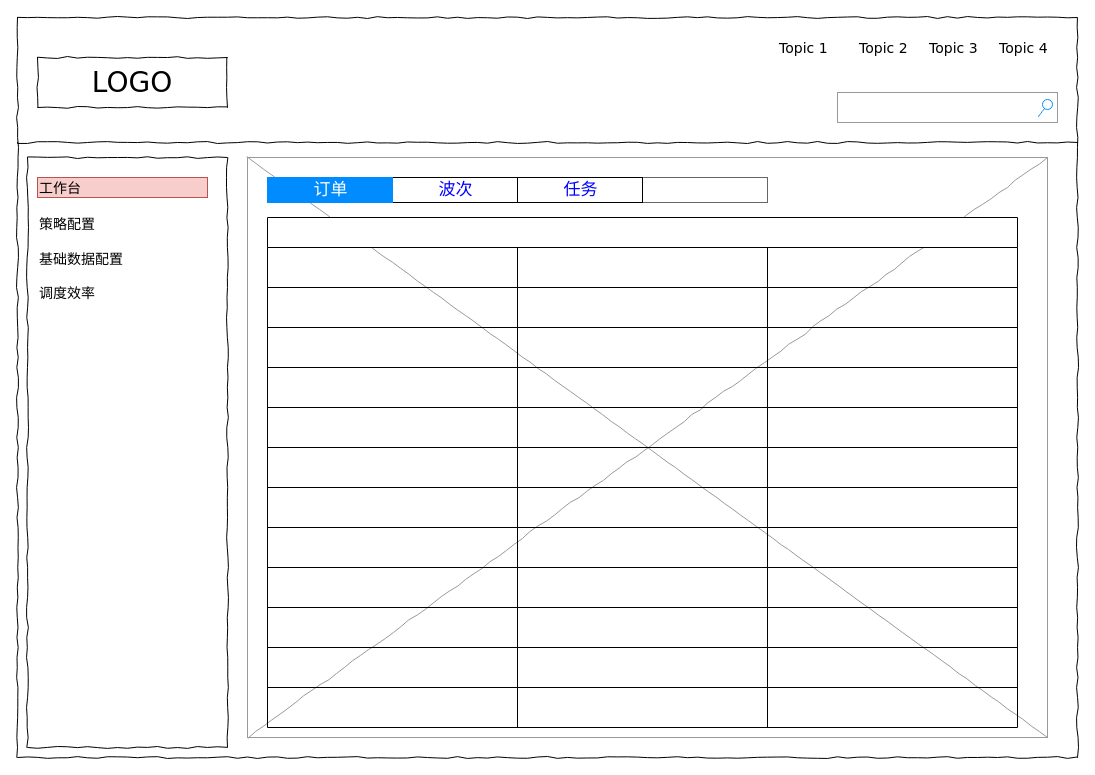
This 1095x775 diagram has some shape labels left out. The box of each missing label's shape, as (x1, y1, x2, y2) in pixels:
Search: (836, 92, 1058, 122)
Table: (266, 216, 1018, 728)
